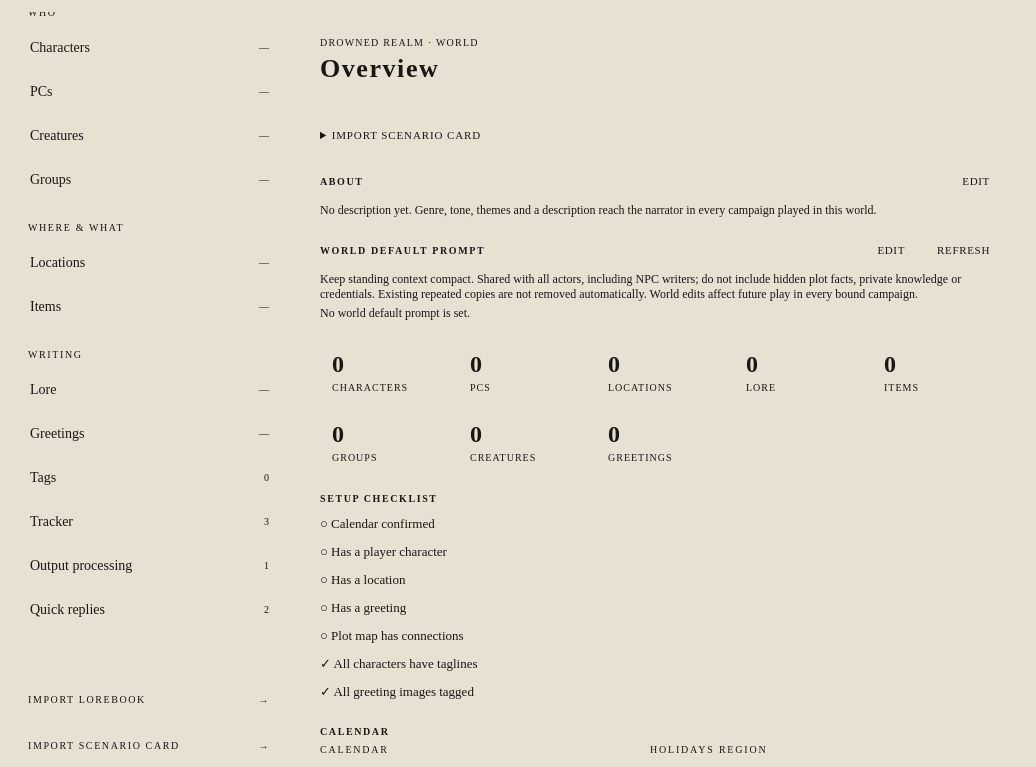
Test: the Quick replies row counts the world's replies and opens their editor
(page scrolled)
Click the link "Quick replies 2" at (68,609), box [30,602,270,617]
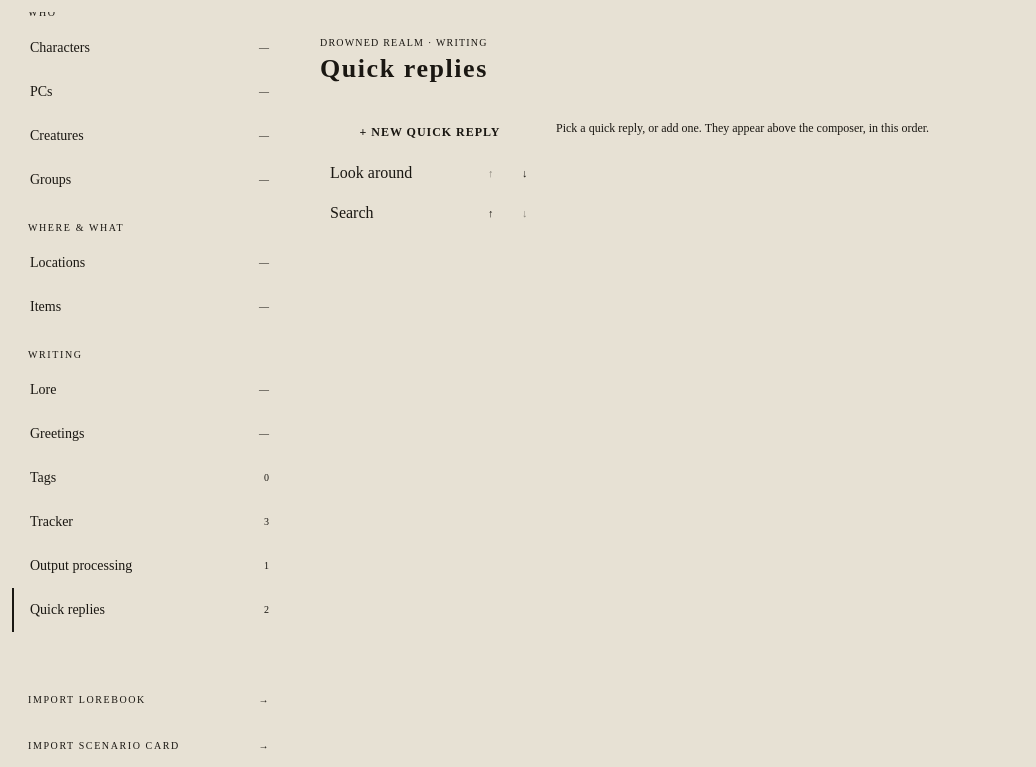
Result: the heading "Quick replies" is shown at [320,54,488,83]
Result: the button "+ New quick reply" is shown at [320,117,540,148]
Result: the button "Look around" is shown at [320,156,472,190]
